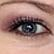eye: (22, 23, 37, 34)
